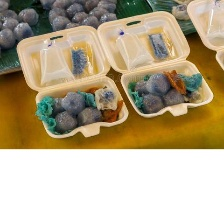foam_box: (12, 22, 131, 141), (93, 8, 215, 120), (183, 0, 223, 75)
